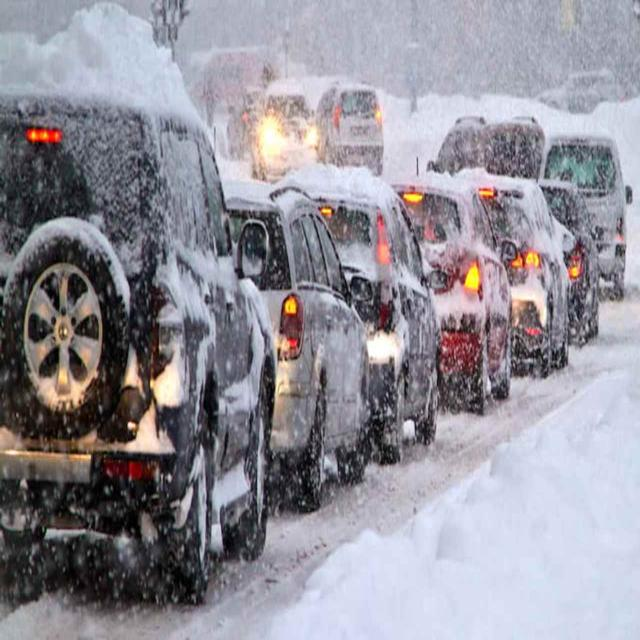car: (2, 84, 270, 594), (290, 175, 440, 468), (234, 188, 370, 504), (414, 167, 559, 391), (391, 178, 521, 411), (476, 172, 576, 381), (528, 134, 620, 338), (520, 156, 598, 362), (428, 118, 542, 179), (315, 84, 383, 174), (254, 88, 317, 175), (226, 84, 259, 157)
